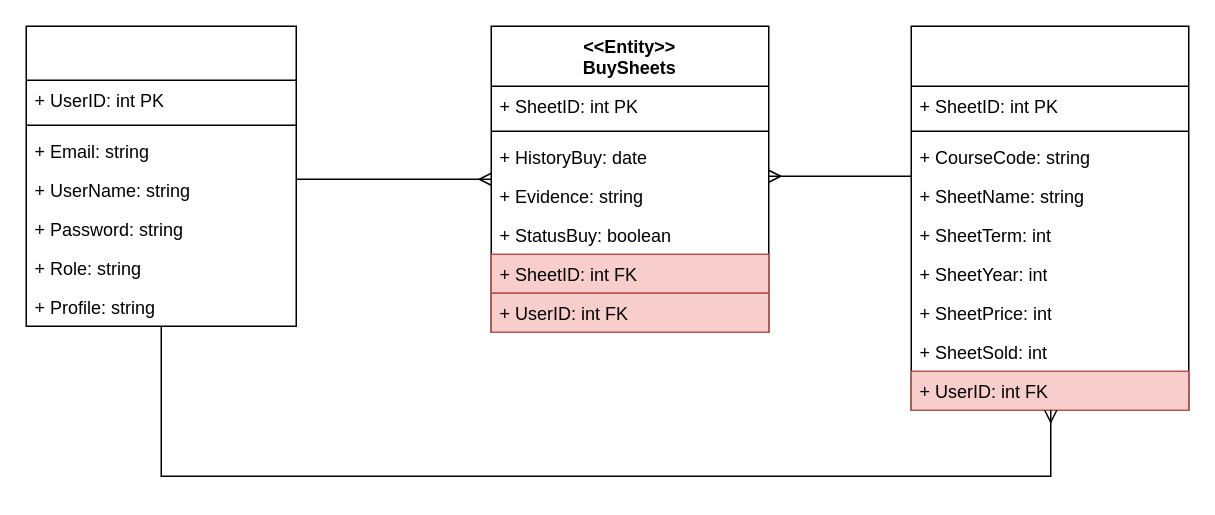
Some shapes in this 1215 by 515 pixel diagram are drawn without their labels. Here are the shapes that lost their labels. From the top down, the box of each, then its label:
(25, 25, 296, 326): <<Entity>> User
(910, 25, 1189, 410): <<Entity>> Sheets
